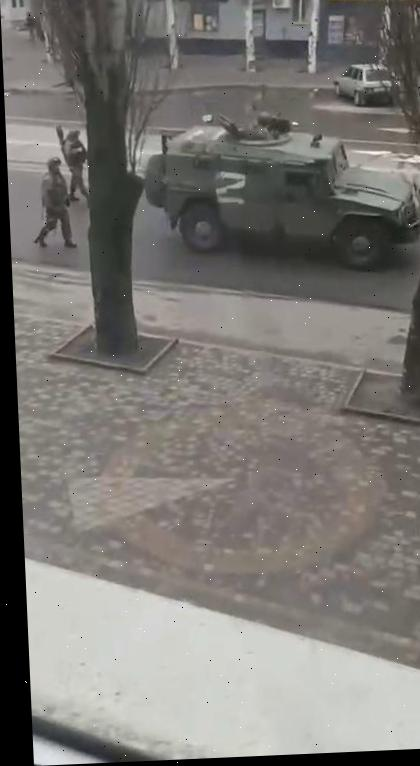armored_car: (140, 106, 420, 278)
car: (333, 62, 402, 108)
person: (31, 157, 78, 250), (55, 123, 91, 205)
